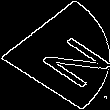N_NW: (10, 23, 100, 87)
